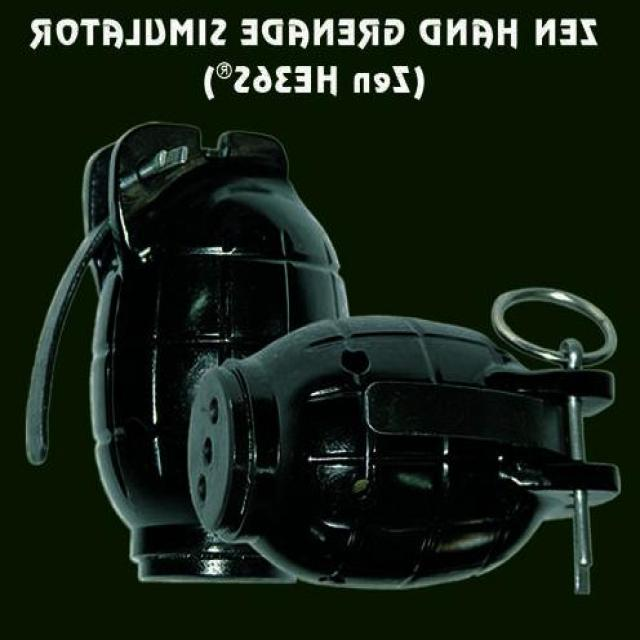grenade: (26, 122, 351, 585), (188, 289, 622, 598)
